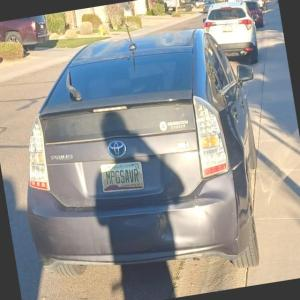Plate: (100, 161, 144, 193)
